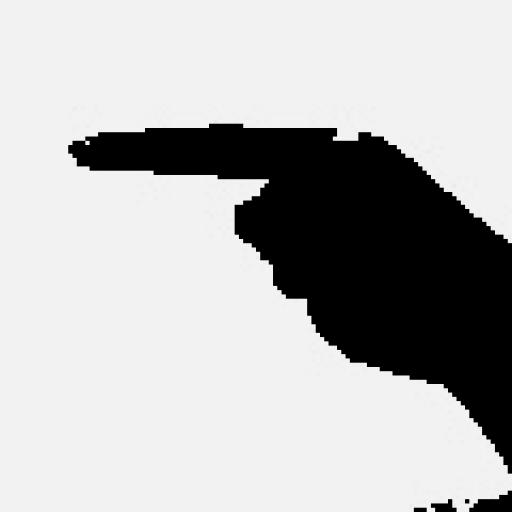index_right: (68, 120, 512, 346)
